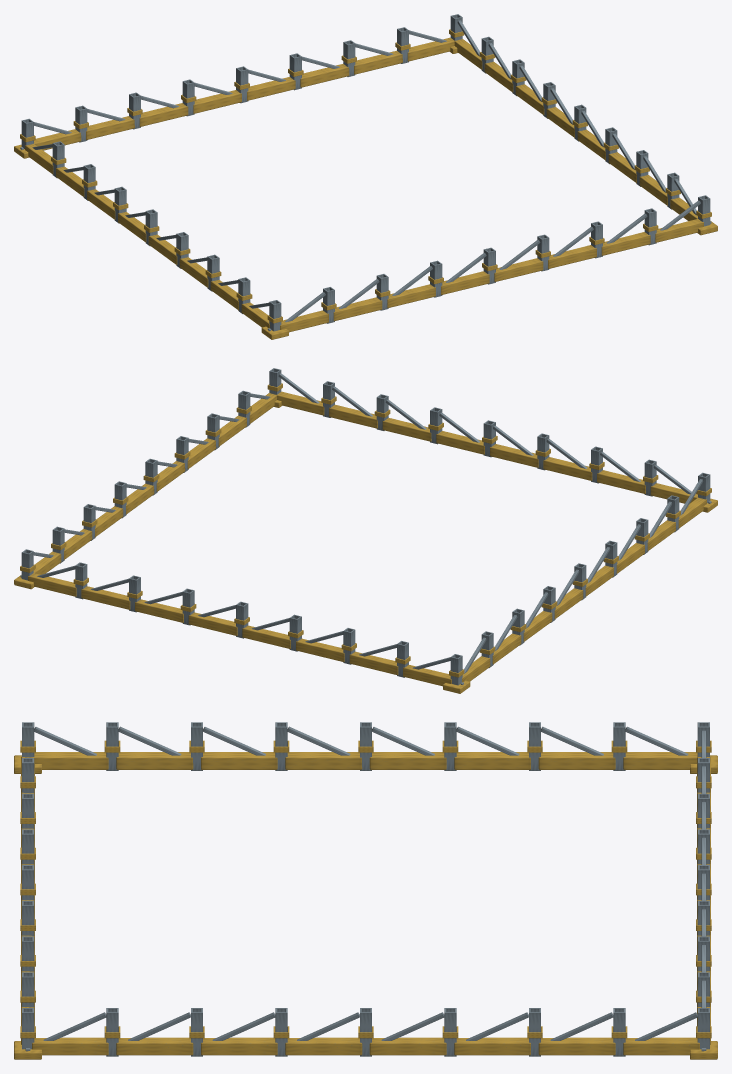
The picture shows the model from 3 angles, top to bottom: view 1: azimuth 30°, elevation 25°; view 2: azimuth 150°, elevation 25°; view 3: azimuth 270°, elevation 25°; orthographic projection. The views are drawn at different scales.
Parts seen in each view (by area): view 1: Tier 0 bay 2-0-5 service deck, Tier 0 bay 2-0-2 service deck, Tier 0 bay 2-0-1 service deck, Tier 0 bay 2-0-6 service deck, Tier 0 bay 0-0-1 service deck, Tier 0 bay 2-0-4 service deck, Tier 0 bay 2-0-3 service deck, Tier 0 bay 0-0-6 service deck, Tier 0 bay 0-0-4 service deck, Tier 0 bay 0-0-3 service deck, Tier 0 bay 0-0-5 service deck, Tier 0 bay 0-0-2 service deck (+3 smaller); view 2: Tier 0 bay 0-0-5 service deck, Tier 0 bay 2-0-1 service deck, Tier 0 bay 2-0-3 service deck, Tier 0 bay 2-0-6 service deck, Tier 0 bay 0-0-1 service deck, Tier 0 bay 0-0-2 service deck, Tier 0 bay 0-0-3 service deck, Tier 0 bay 2-0-2 service deck, Tier 0 bay 0-0-6 service deck, Tier 0 bay 2-0-5 service deck, Tier 0 bay 2-0-4 service deck, Tier 0 bay 0-0-4 service deck (+3 smaller); view 3: Tier 0 bay 1-0-4 service deck, Tier 0 bay 1-0-6 service deck, Tier 0 bay 1-0-1 service deck, Tier 0 bay 1-0-3 service deck, Tier 0 bay 1-0-2 service deck, Tier 0 bay 1-0-5 service deck, Tier 0 bay 3-0-1 service deck, Tier 0 bay 3-0-3 service deck, Tier 0 bay 3-0-6 service deck, Tier 0 bay 3-0-4 service deck, Tier 0 bay 3-0-2 service deck, Tier 0 bay 3-0-5 service deck (+4 smaller).
Part boxes in pixels (x1,y1,x2,y2): Tier 0 bay 2-0-5 service deck: [139, 103, 188, 126]; Tier 0 bay 2-0-2 service deck: [300, 64, 349, 87]; Tier 0 bay 2-0-1 service deck: [354, 50, 402, 74]; Tier 0 bay 2-0-6 service deck: [86, 116, 134, 139]; Tier 0 bay 0-0-1 service deck: [333, 297, 382, 321]; Tier 0 bay 2-0-4 service deck: [193, 90, 241, 113]; Tier 0 bay 2-0-3 service deck: [247, 77, 295, 100]; Tier 0 bay 0-0-6 service deck: [601, 232, 650, 255]; Tier 0 bay 0-0-4 service deck: [494, 258, 543, 281]; Tier 0 bay 0-0-3 service deck: [441, 271, 489, 294]; Tier 0 bay 0-0-5 service deck: [548, 245, 596, 268]; Tier 0 bay 0-0-2 service deck: [387, 284, 435, 307]; Tier 0 bay 0-0-5 service deck: [382, 418, 431, 441]; Tier 0 bay 2-0-1 service deck: [81, 586, 130, 609]; Tier 0 bay 2-0-3 service deck: [188, 612, 237, 635]; Tier 0 bay 2-0-6 service deck: [349, 651, 398, 675]; Tier 0 bay 0-0-1 service deck: [597, 470, 645, 493]; Tier 0 bay 0-0-2 service deck: [543, 457, 592, 480]; Tier 0 bay 0-0-3 service deck: [490, 444, 538, 467]; Tier 0 bay 2-0-2 service deck: [135, 599, 183, 622]; Tier 0 bay 0-0-6 service deck: [329, 404, 377, 428]; Tier 0 bay 2-0-5 service deck: [296, 638, 344, 661]; Tier 0 bay 2-0-4 service deck: [242, 625, 290, 648]; Tier 0 bay 0-0-4 service deck: [436, 431, 484, 454]; Tier 0 bay 1-0-4 service deck: [369, 1037, 446, 1055]; Tier 0 bay 1-0-6 service deck: [538, 1037, 615, 1055]; Tier 0 bay 1-0-1 service deck: [116, 1037, 193, 1055]; Tier 0 bay 1-0-3 service deck: [285, 1037, 362, 1055]; Tier 0 bay 1-0-2 service deck: [201, 1037, 277, 1055]; Tier 0 bay 1-0-5 service deck: [454, 1037, 530, 1055]; Tier 0 bay 3-0-1 service deck: [538, 752, 615, 769]; Tier 0 bay 3-0-3 service deck: [369, 752, 446, 769]; Tier 0 bay 3-0-6 service deck: [116, 752, 193, 769]; Tier 0 bay 3-0-4 service deck: [285, 752, 362, 769]; Tier 0 bay 3-0-2 service deck: [454, 752, 530, 769]; Tier 0 bay 3-0-5 service deck: [201, 752, 277, 769].
Size of the model in its own units: 3.75 by 0.2571 by 3.75.
2 materials, 2 textured.
